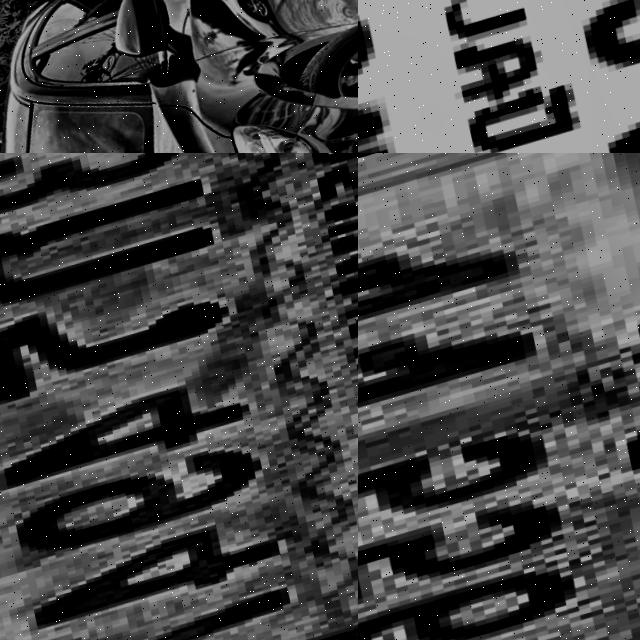license-plate: (0, 153, 358, 640), (358, 153, 640, 640), (358, 0, 640, 153)
